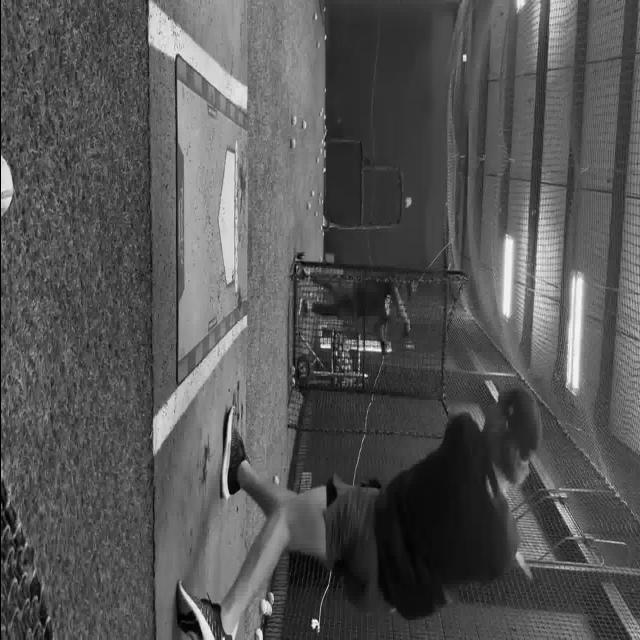base: (218, 151, 237, 290)
baseball: (1, 155, 13, 217), (266, 591, 274, 605), (254, 627, 262, 639), (404, 197, 412, 209), (289, 137, 295, 149), (290, 115, 296, 125), (272, 474, 278, 484), (302, 119, 306, 129), (306, 201, 310, 210), (312, 12, 316, 20), (316, 40, 320, 48), (310, 189, 314, 197), (314, 210, 317, 217), (323, 34, 326, 40), (316, 156, 318, 164)
shoe: (175, 579, 232, 639), (220, 404, 250, 499)
